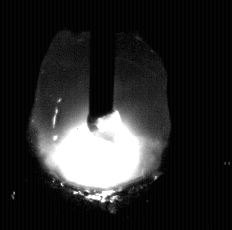arame: (90, 0, 115, 131)
poca: (30, 0, 172, 230)
